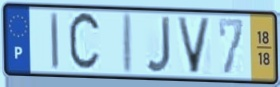7: (217, 17, 245, 77)
C: (66, 9, 103, 76)
I: (120, 10, 134, 76), (49, 11, 60, 72)
J: (144, 14, 173, 75)
V: (175, 15, 214, 76)
